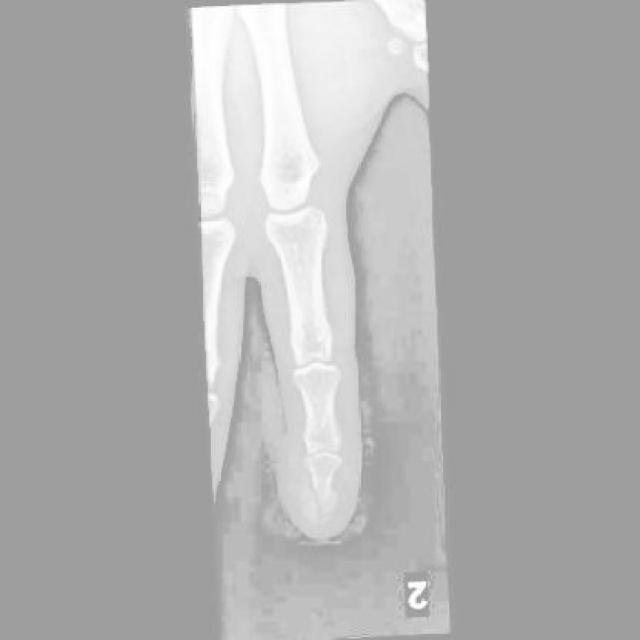Fracture: (286, 480, 346, 531)
